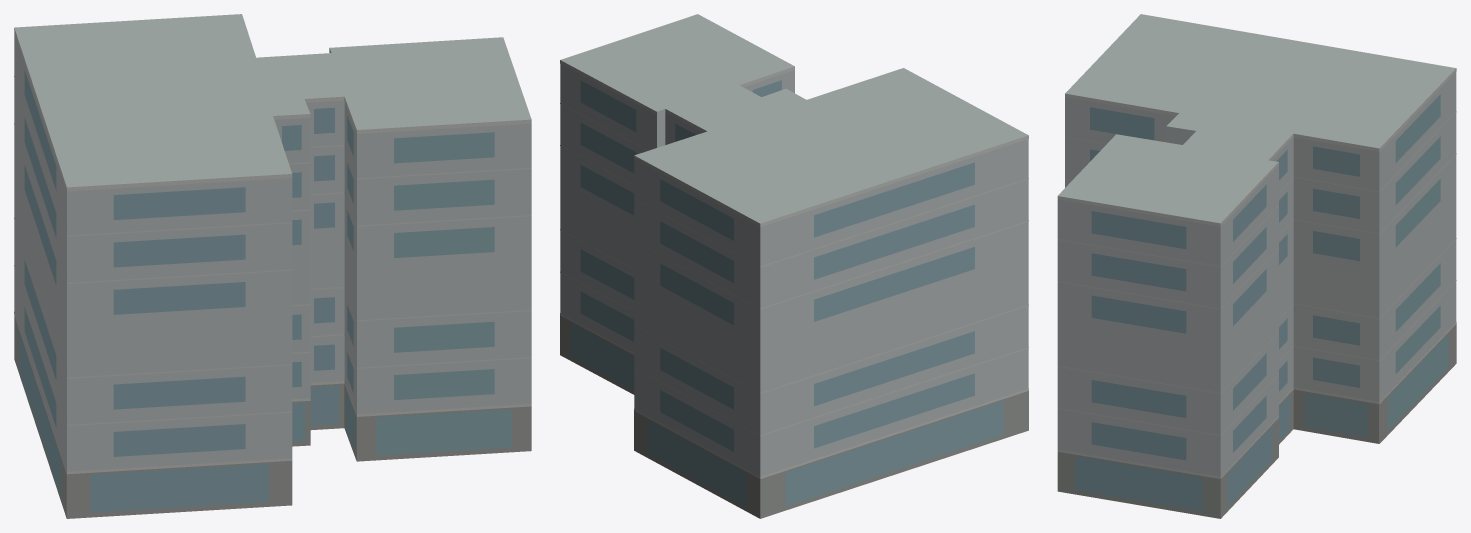
The model's file is survey-upis-32664753.glb.
The picture shows the model from 3 angles, left to right: view 1: azimuth 30°, elevation 25°; view 2: azimuth 150°, elevation 25°; view 3: azimuth 270°, elevation 25°; orthographic projection. The views are drawn at different scales.
Parts seen in each view (by area): view 1: survey-upis-32664753.tmp; view 2: survey-upis-32664753.tmp; view 3: survey-upis-32664753.tmp.
Part boxes in pixels (x1=…): survey-upis-32664753.tmp: x1=14, y1=14, x2=531, y2=518; survey-upis-32664753.tmp: x1=560, y1=14, x2=1028, y2=518; survey-upis-32664753.tmp: x1=1057, y1=14, x2=1456, y2=518.
Size of the model in its own units: 30.71 by 20.2 by 24.73.
